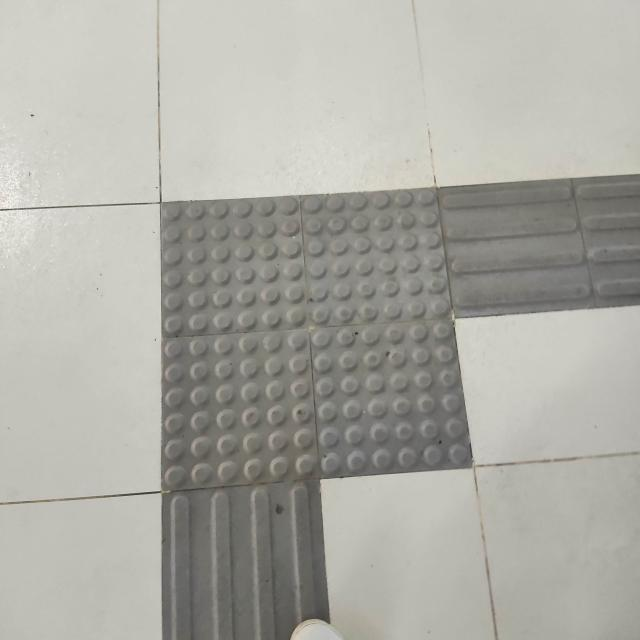kanan: (97, 142, 640, 545)
